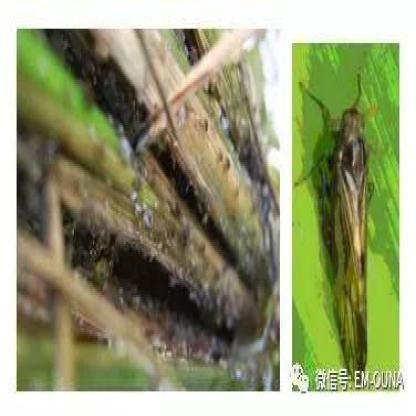brown-planthopper: (328, 107, 370, 364)
